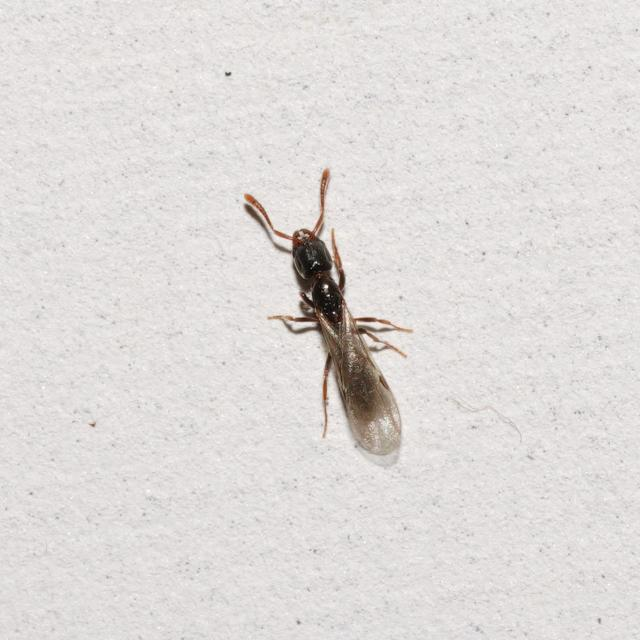Ponera: (234, 183, 433, 459)
